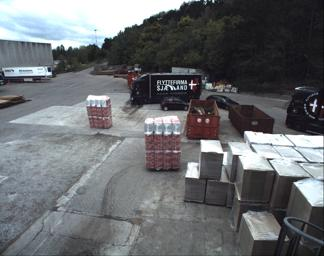rockwool_batts: (143, 116, 180, 169), (85, 94, 112, 128)
